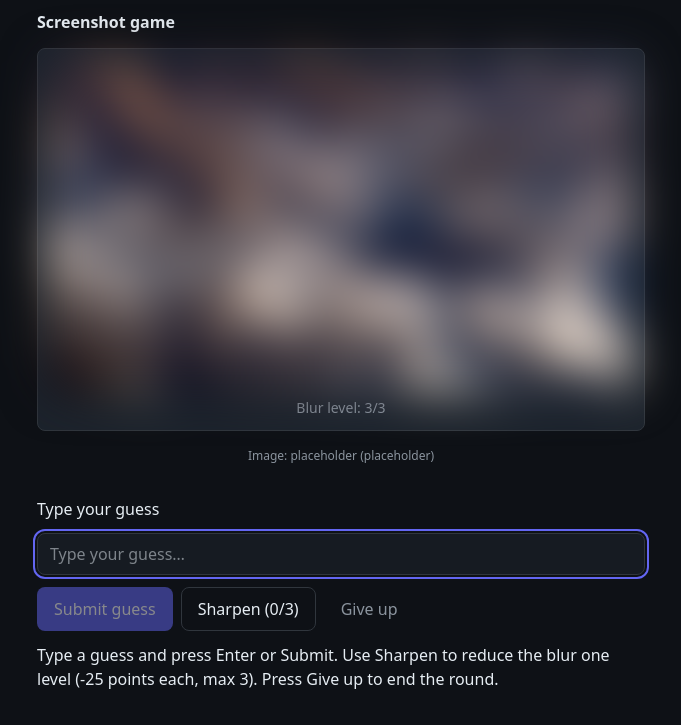
Test case: ScreenshotGame — give up › ends the round with score 0 and records given_up status
This screenshot has width=681, height=725.
Click the button "Give up" at (369, 609), box [324, 587, 414, 631]
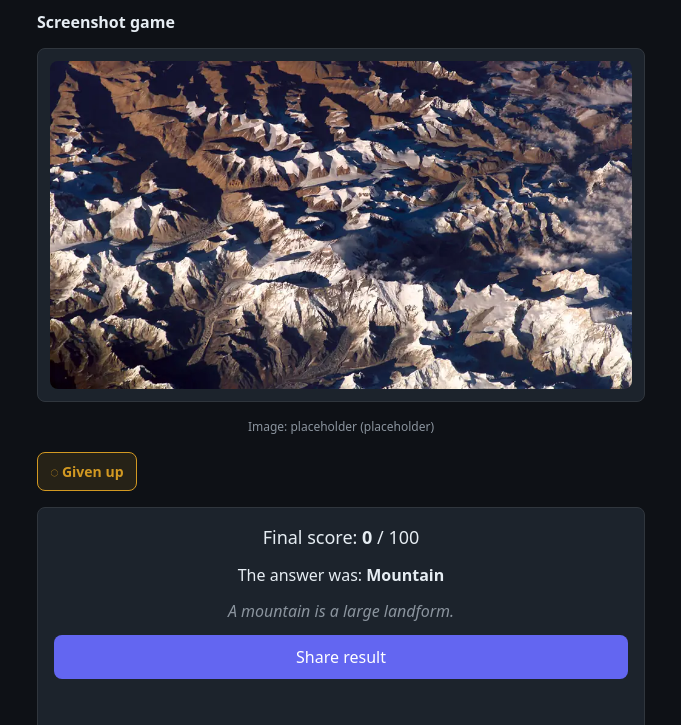
Expected: the text "Mountain" is shown, [366, 564, 444, 586]
Expected: the text "0" is shown, [362, 525, 372, 549]
